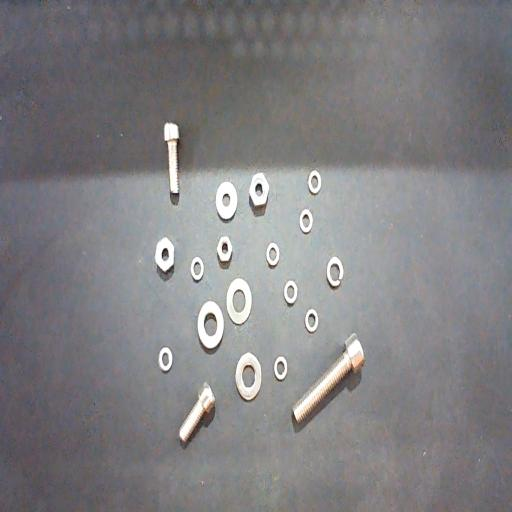nut: (154, 237, 174, 274), (249, 172, 269, 207), (216, 236, 232, 263)
screw: (292, 333, 365, 424), (178, 384, 216, 444), (164, 122, 180, 195)
washer: (235, 353, 262, 401), (198, 302, 224, 350), (226, 278, 252, 325), (216, 181, 238, 221), (326, 257, 344, 287), (308, 169, 322, 195), (299, 208, 313, 234), (284, 279, 298, 305), (190, 256, 204, 282), (266, 242, 280, 267), (274, 356, 288, 381), (159, 347, 172, 373), (306, 308, 318, 334)
